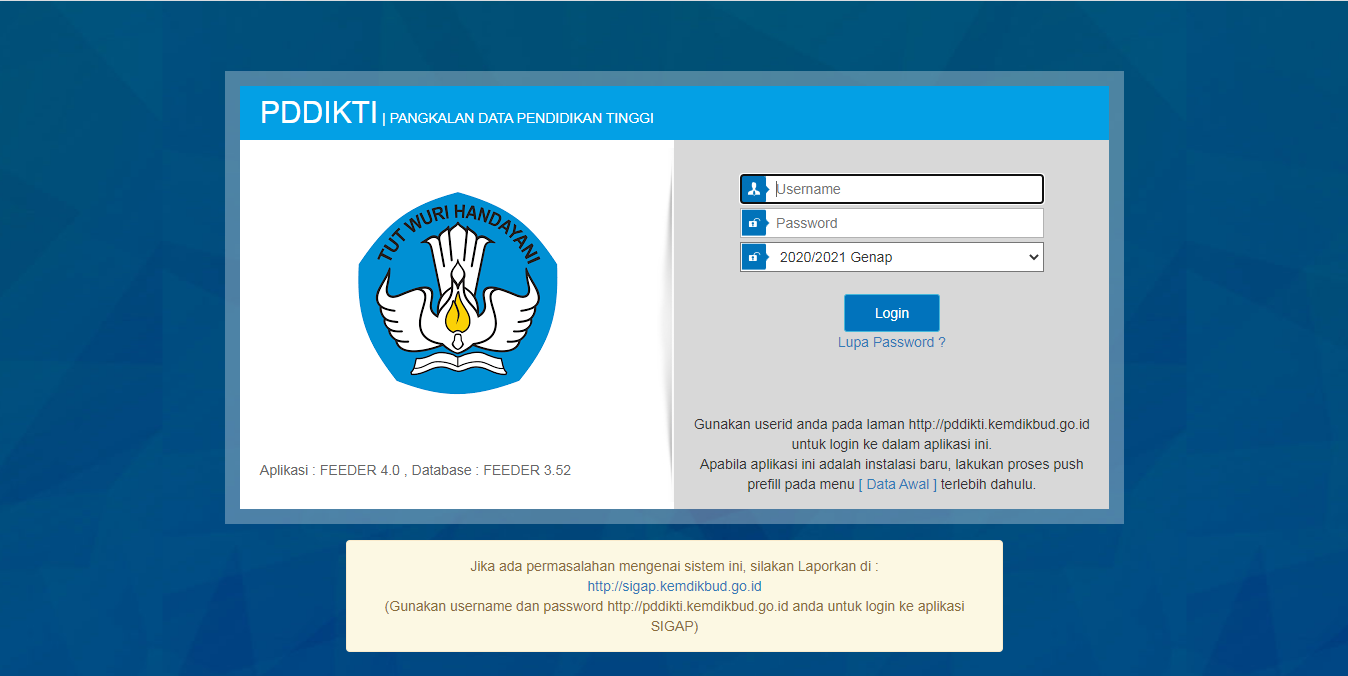Button: (845, 296, 940, 333)
Image: (354, 185, 562, 401)
Nav Bar: (344, 542, 1008, 656)
Text Field: (759, 168, 1046, 205), (765, 207, 1042, 236)
